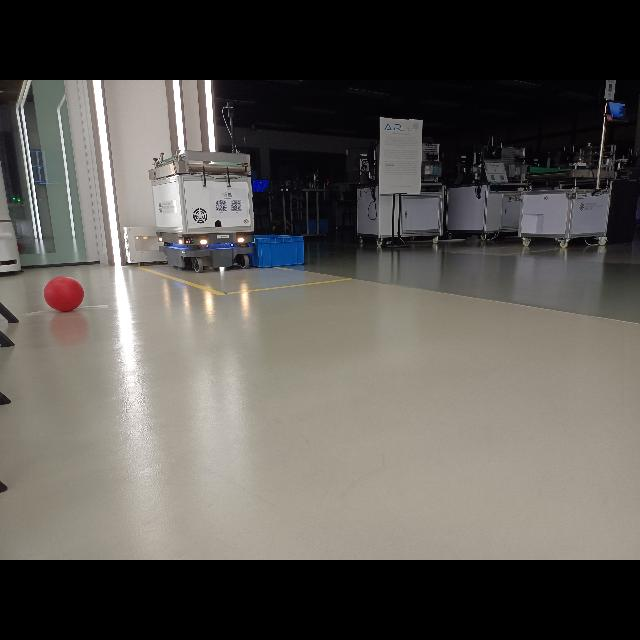R: (44, 275, 84, 313)
